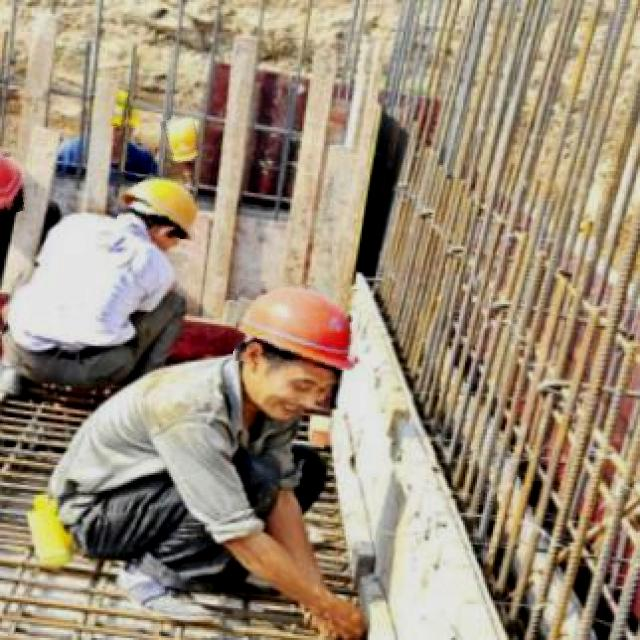helmet: (235, 282, 359, 368), (118, 173, 198, 238), (163, 116, 201, 162), (0, 144, 25, 213), (108, 89, 140, 128)
